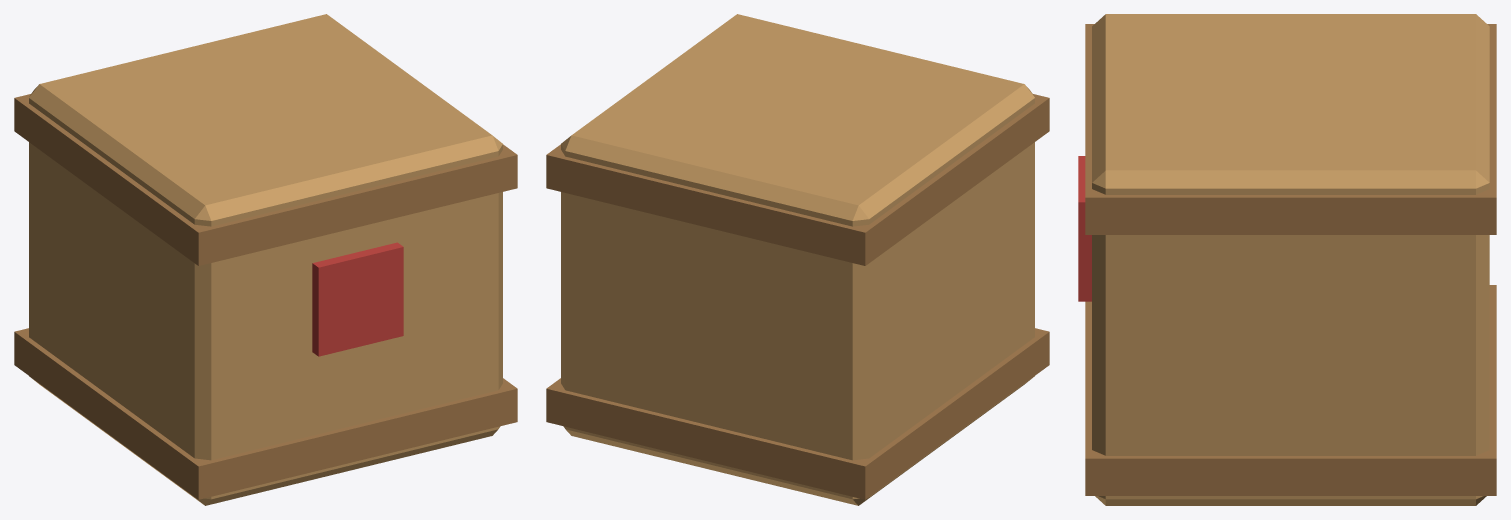
File: prop_cargo_crate.glb
3 renders of one model, left to right at view 1: azimuth 30°, elevation 25°; view 2: azimuth 150°, elevation 25°; view 3: azimuth 270°, elevation 25°, orthographic. The views are drawn at different scales.
Parts seen in each view (by area): view 1: prop_cargo_crate; view 2: prop_cargo_crate; view 3: prop_cargo_crate.
Part boxes in pixels (x1,y1,x2,y2): prop_cargo_crate: (14,14,517,505); prop_cargo_crate: (546,14,1049,505); prop_cargo_crate: (1078,14,1496,505).
Bounding box in the file's own units: 0.6 × 0.54 × 0.61.
